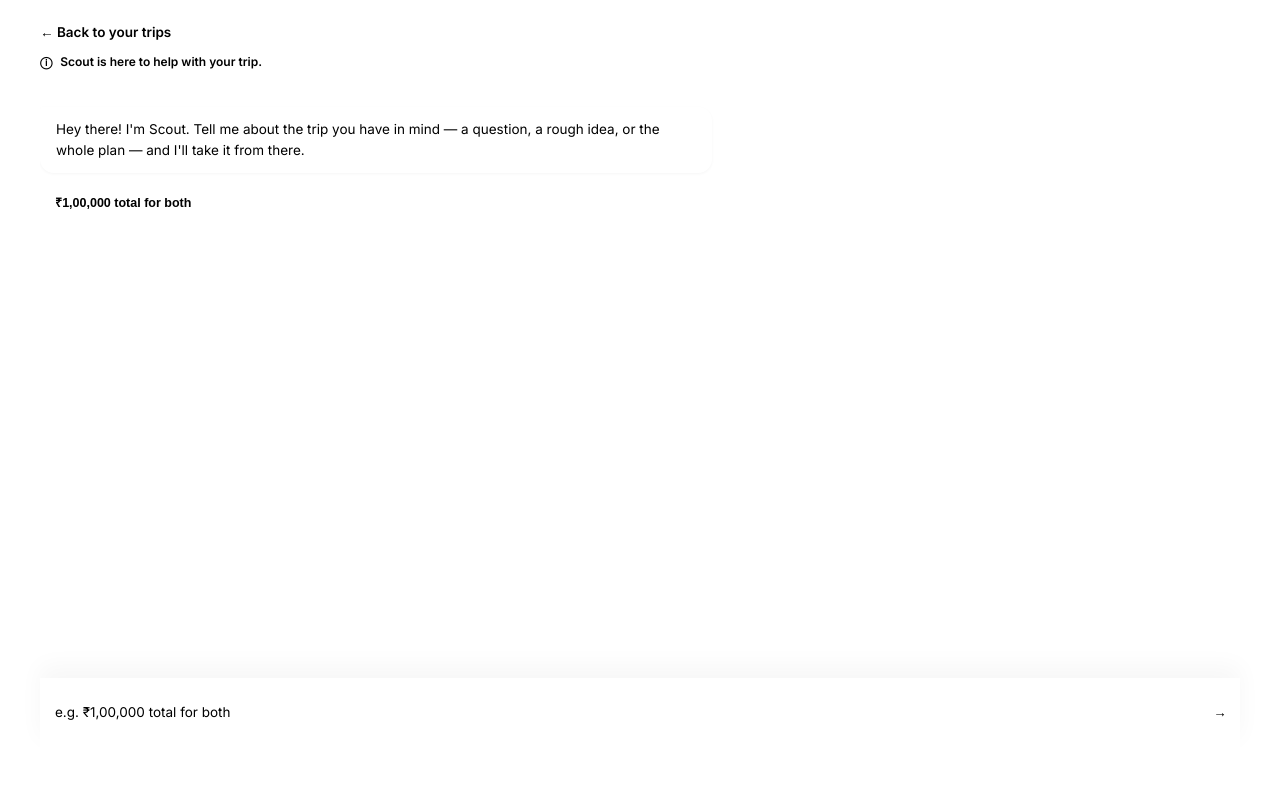
Test: ScoutChat advice-entry chat › shows the assistant reply in chat when Guide has not completed the plan
Type "Plan a Coorg trip" into the field with placeholder "e.g. ₹1,00,000 total for both" at {"x": 616, "y": 712}, box [40, 692, 1192, 732]
Then press Enter
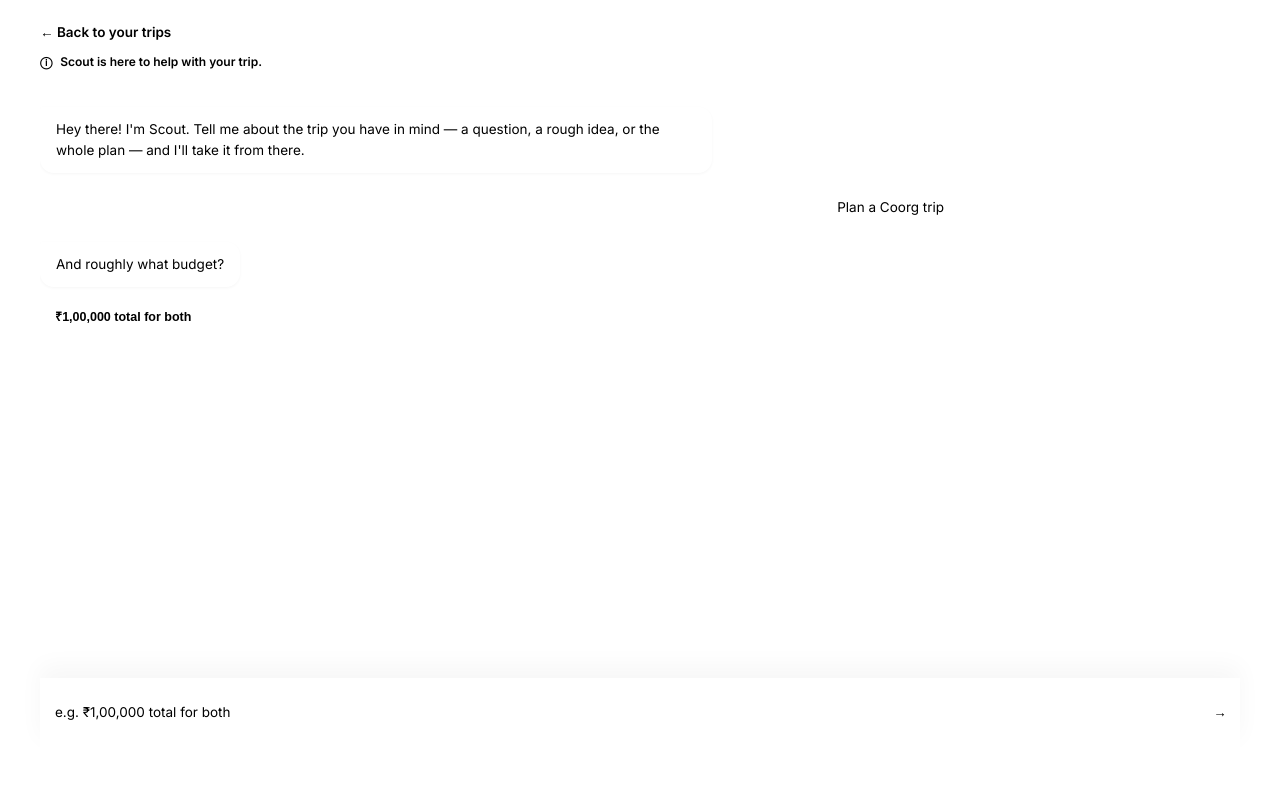
Expected: the text "And roughly what budget?" is shown, [40, 242, 240, 287]
